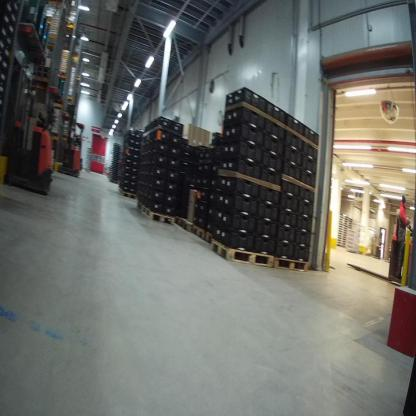pallet: (210, 237, 276, 268), (270, 254, 314, 272), (140, 204, 176, 225), (116, 186, 139, 201), (177, 215, 195, 231), (205, 231, 220, 249), (192, 222, 207, 240), (66, 19, 76, 31)
pallet_truck: (6, 77, 59, 200), (341, 213, 415, 288), (54, 98, 86, 182)
